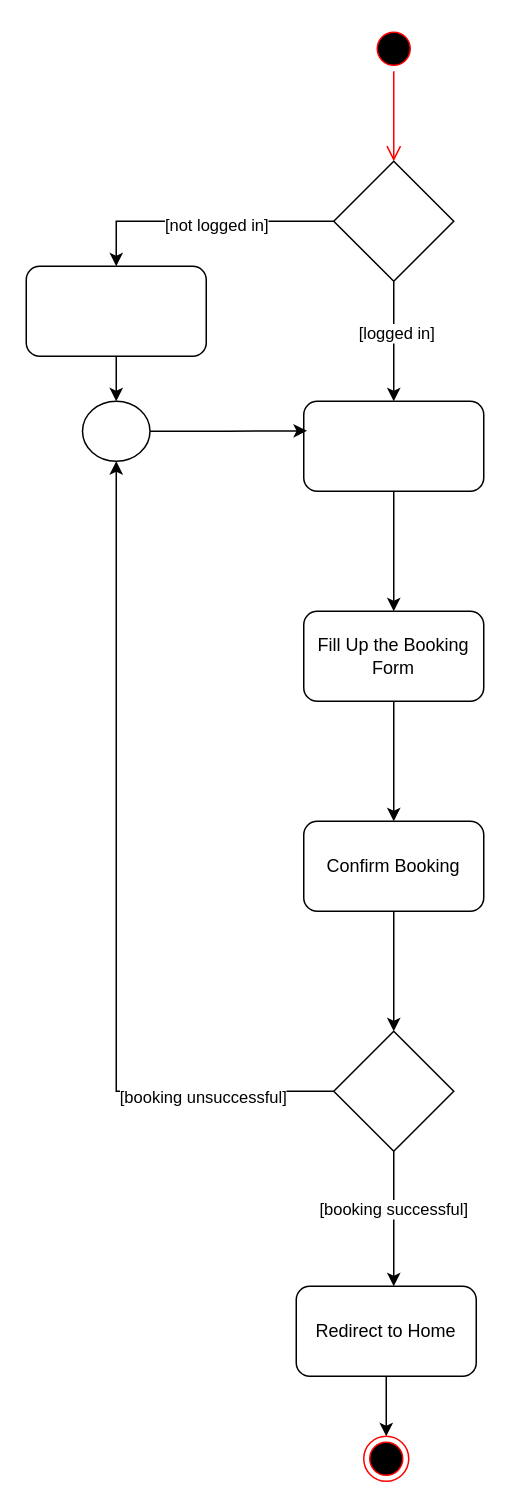
Image size: 510x1508. Some labels were removed from this diagram. Each missing label, with the box of its shape:
Login: (25, 265, 206, 356)
Select Room: (302, 400, 484, 491)
